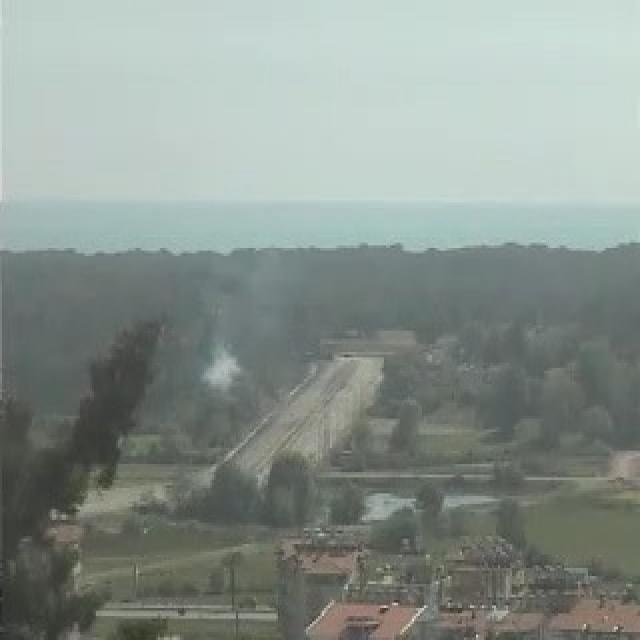smoke: (191, 331, 253, 401)
